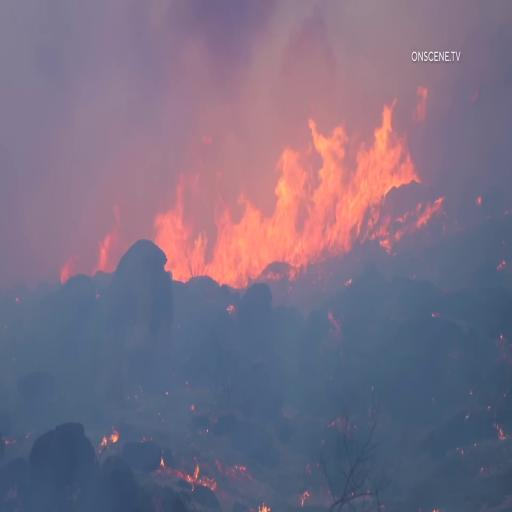fire: (343, 104, 424, 232), (277, 120, 344, 253), (207, 177, 272, 275), (158, 178, 206, 270)
